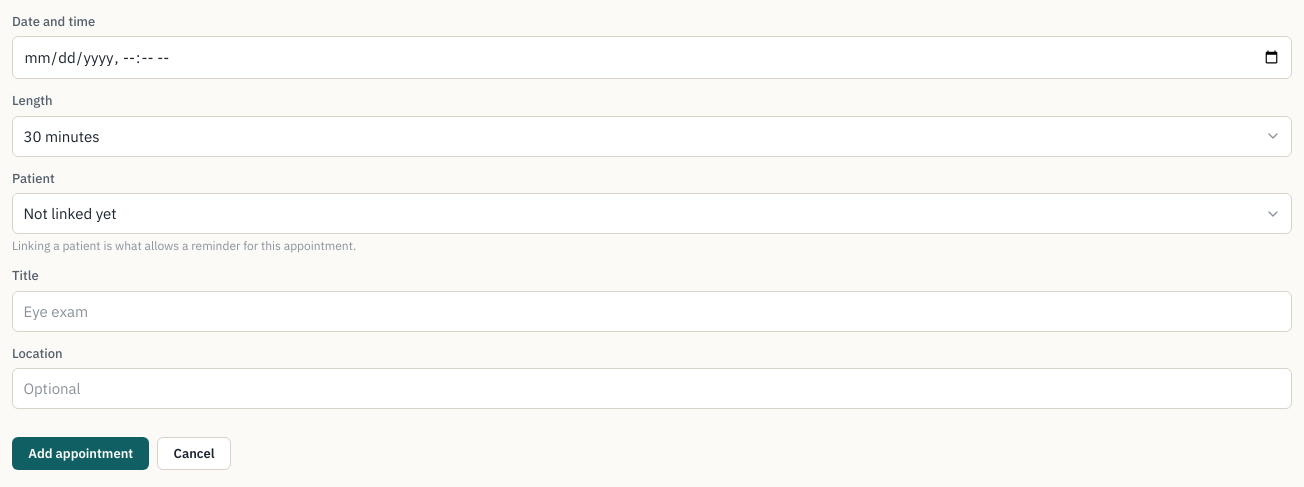
AppointmentForm › surfaces a server rejection
Type "2026-09-01T10:00" into the field labelled "Date and time" at (652, 58), box [12,36,1292,79]
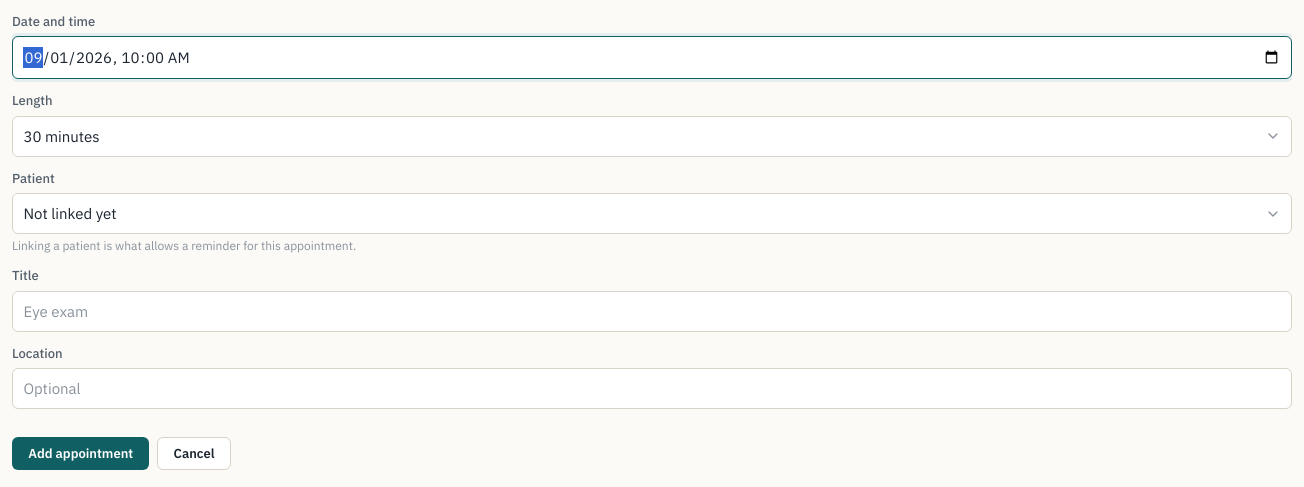
Click the button "Add appointment" at (81, 453), box [12,437,149,470]
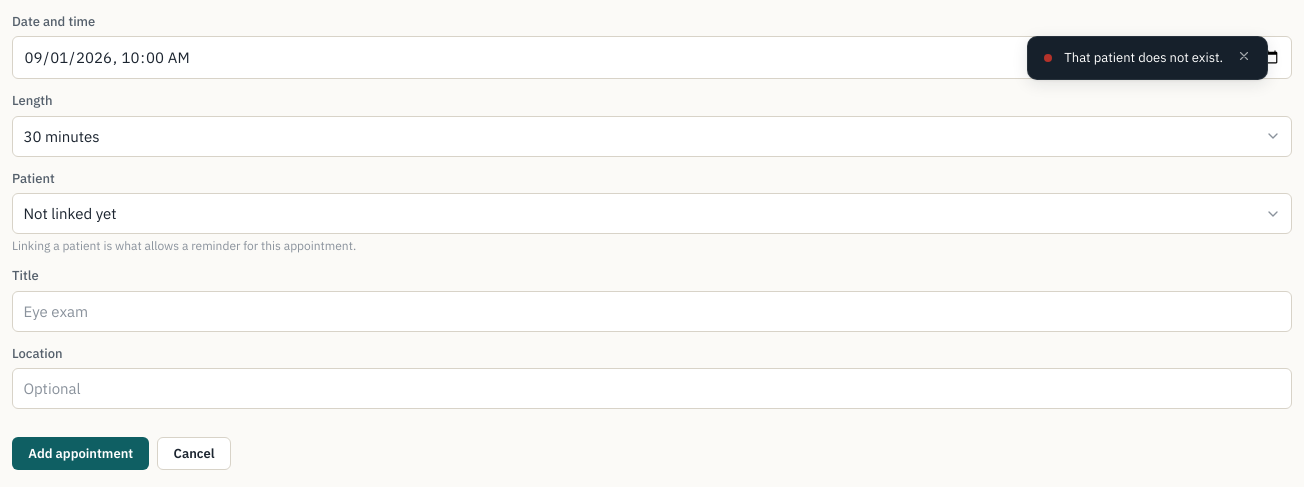
Result: the text "That patient does not exist." is shown at [1064,49,1223,66]
